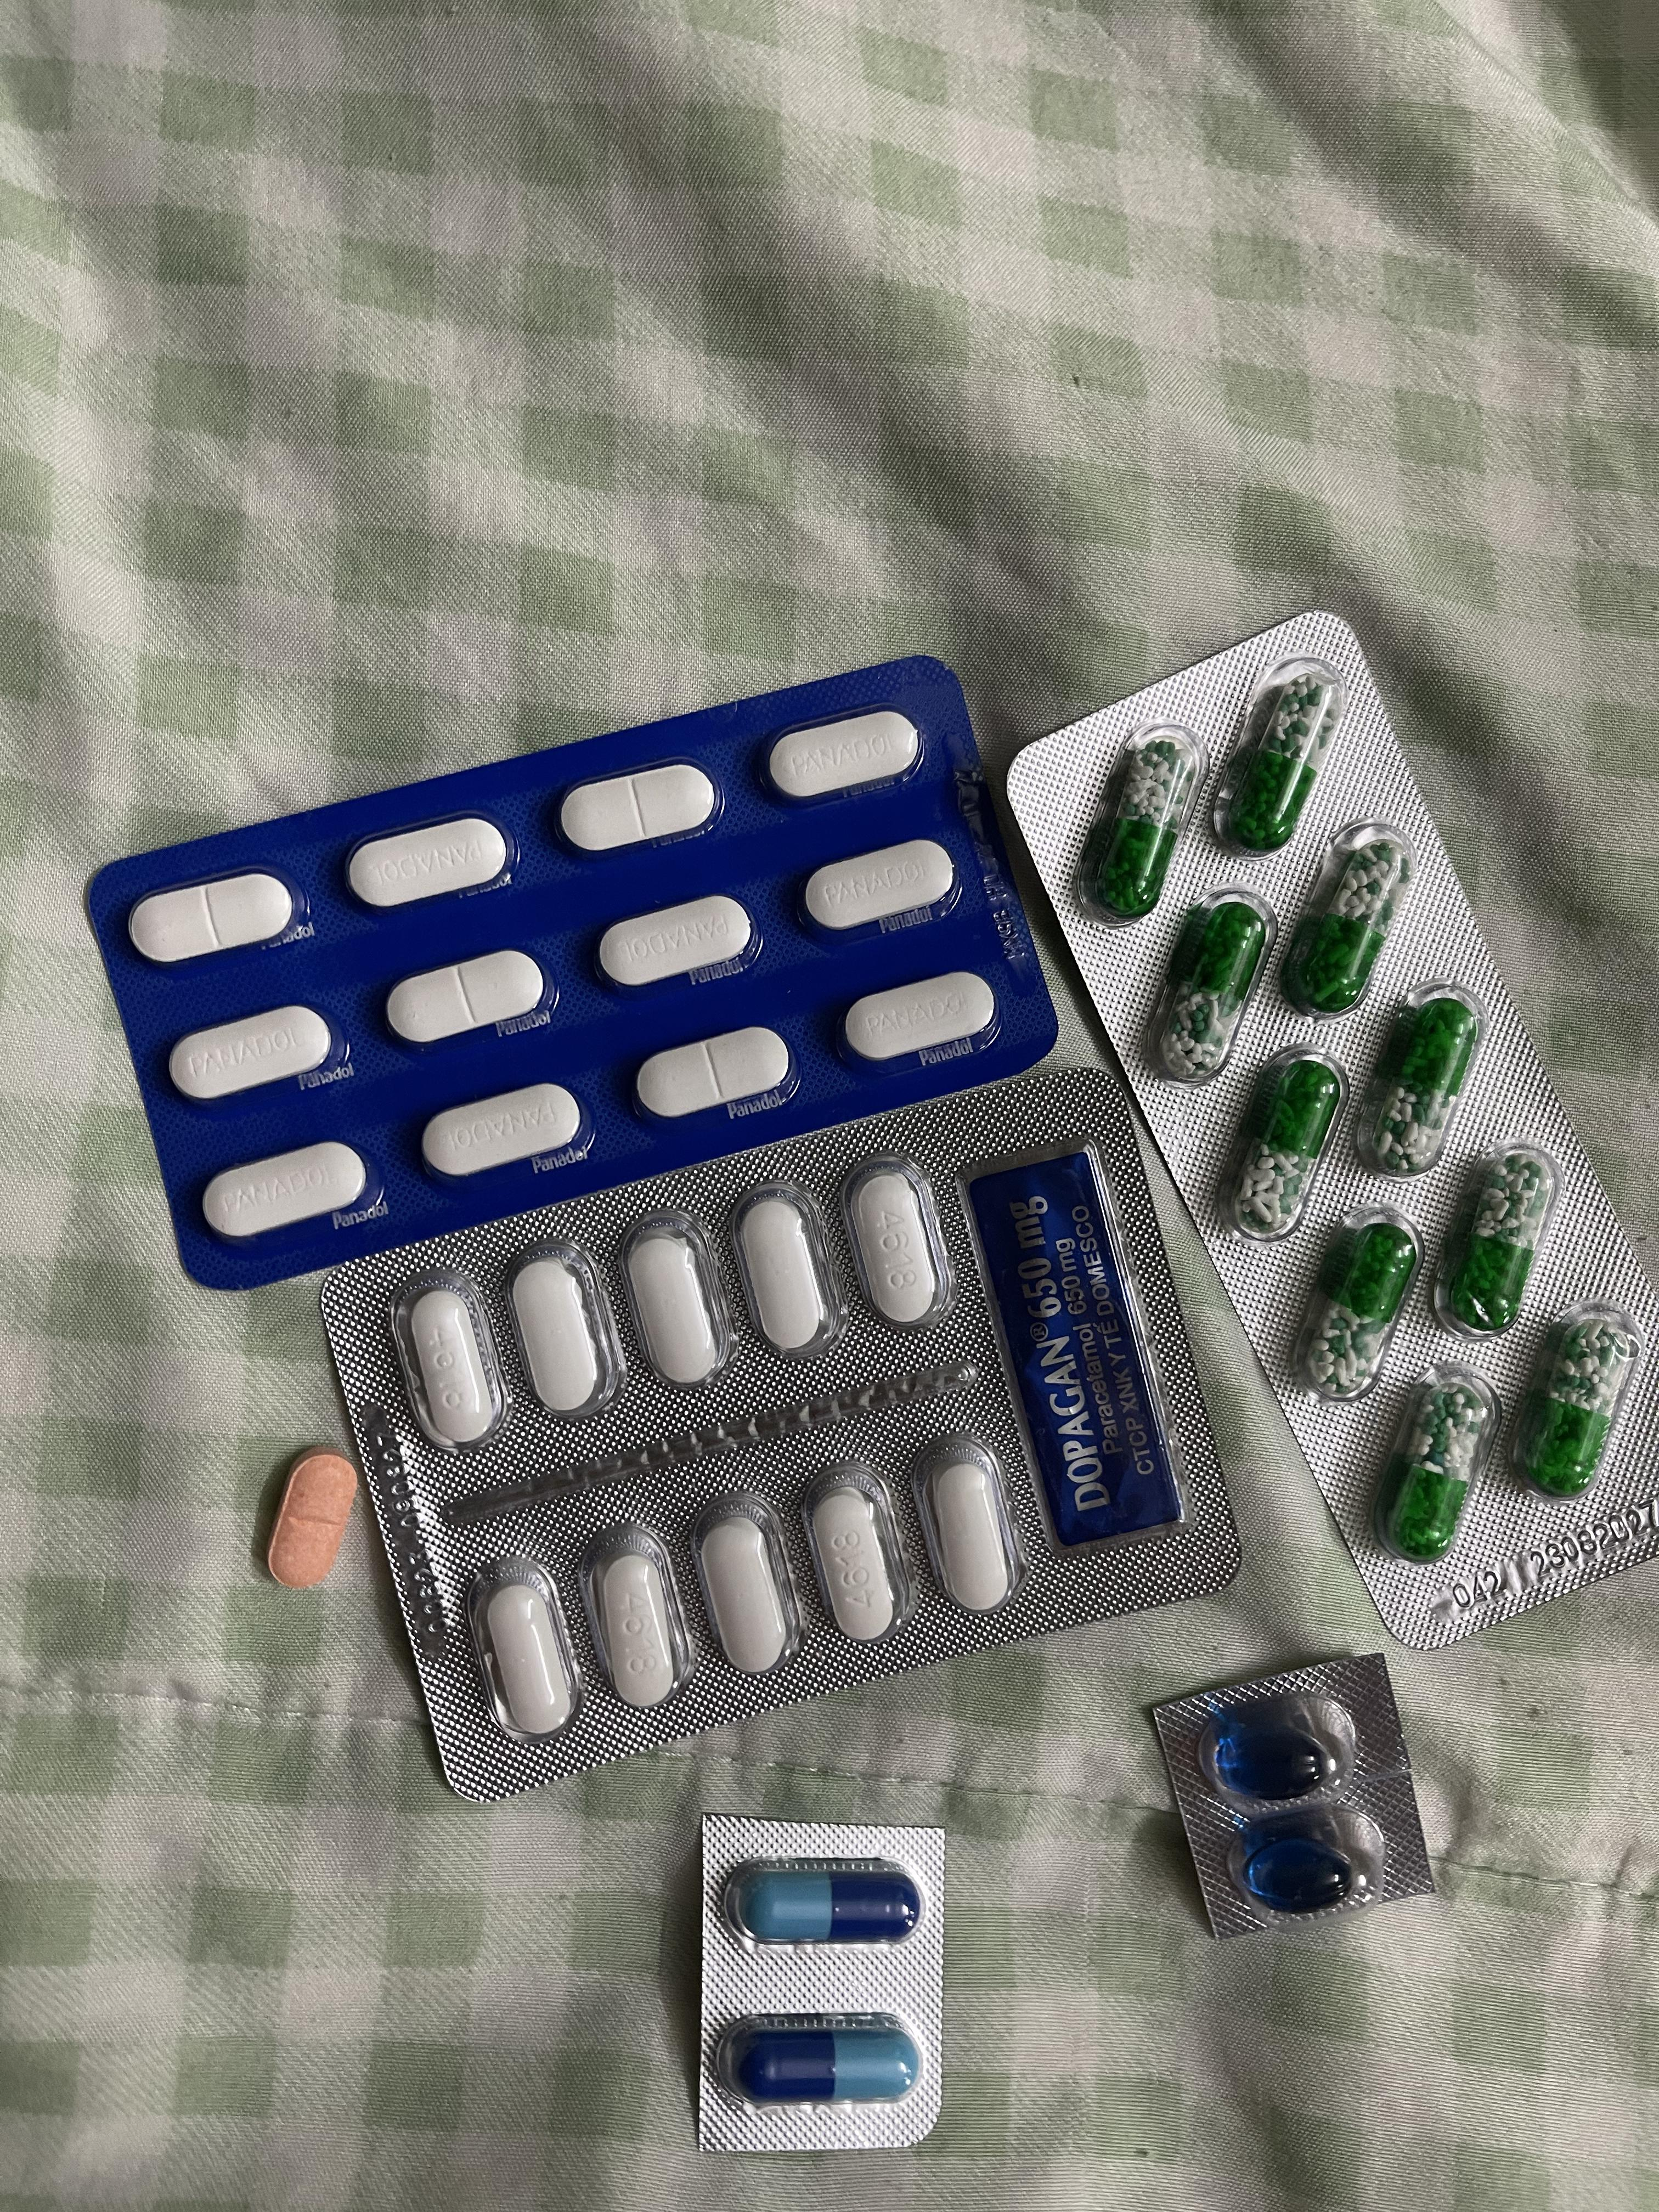Lincomyxin_500mg: (1215, 1724, 1333, 1801), (1243, 1836, 1354, 1911)
Loratadine_10mg: (267, 1447, 359, 1590)
Paracetamol_350mg: (169, 1003, 338, 1104), (202, 1141, 371, 1240), (762, 705, 924, 806), (840, 970, 1000, 1071), (387, 949, 545, 1050), (800, 840, 958, 941), (596, 894, 760, 991), (131, 869, 300, 963), (422, 1085, 584, 1183), (345, 817, 509, 911), (638, 1026, 793, 1123), (559, 761, 716, 857)
Paracetamol_500mg: (389, 1263, 514, 1447), (575, 1527, 695, 1714), (467, 1554, 582, 1745), (504, 1240, 624, 1421), (803, 1461, 920, 1648), (842, 1157, 955, 1331), (620, 1211, 730, 1388), (701, 1512, 793, 1676), (739, 1197, 824, 1350), (929, 1460, 1007, 1613)
Paracetamol_650mg: (1279, 822, 1419, 1019), (1208, 662, 1344, 859), (1356, 988, 1490, 1184), (1136, 887, 1269, 1085), (1284, 1207, 1420, 1400), (1216, 1050, 1351, 1242), (1370, 1366, 1497, 1564), (1438, 1148, 1565, 1336), (1521, 1322, 1631, 1496), (1089, 733, 1185, 913)
pill: (716, 2012, 927, 2107), (735, 1874, 920, 1944)
